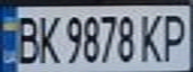7: (100, 11, 118, 64)
8: (115, 11, 139, 63), (81, 11, 103, 64)
9: (60, 11, 84, 65)
B: (9, 11, 42, 65)
K: (136, 10, 166, 63), (33, 11, 60, 65)
P: (157, 10, 190, 63)
